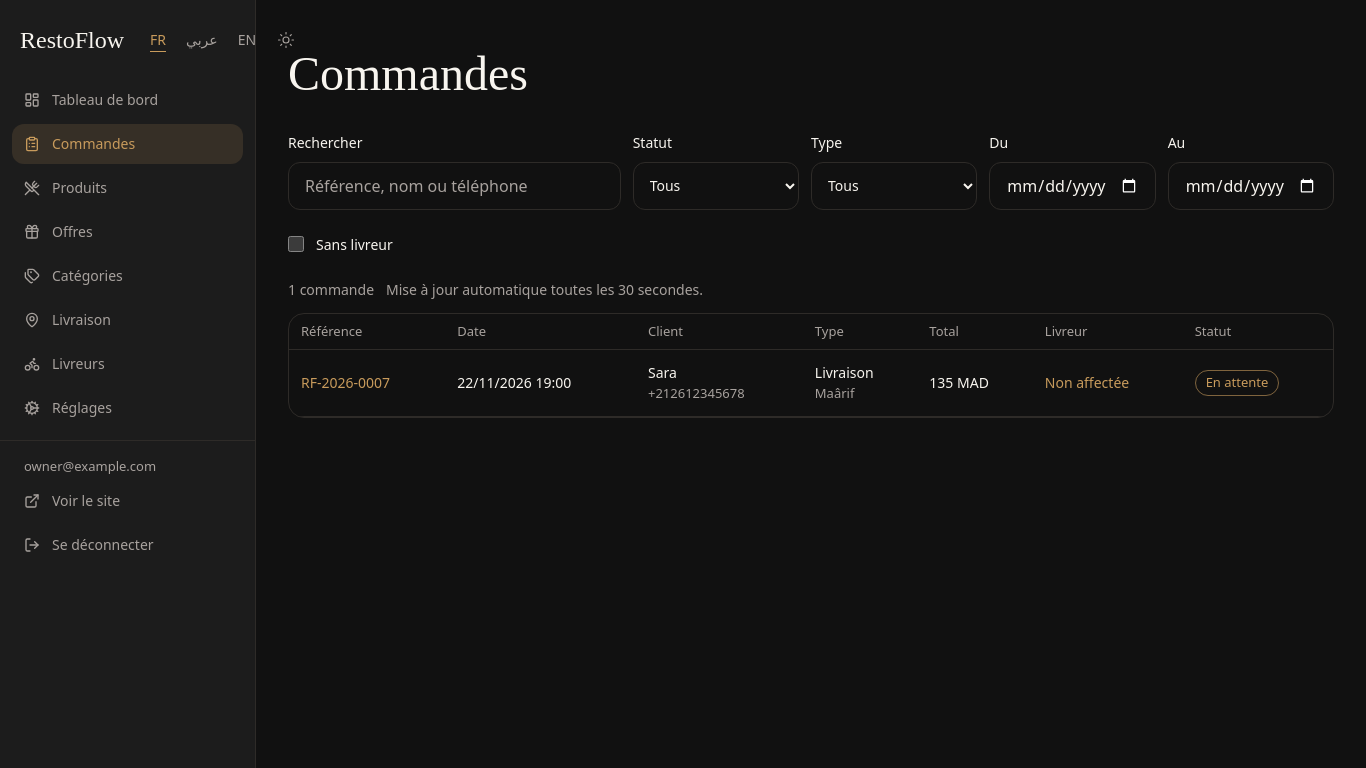
Test: orders › lists orders and confirms one manually
Click the link "RF-2026-0007" at (346, 383), box left=301, top=373, right=390, bottom=392
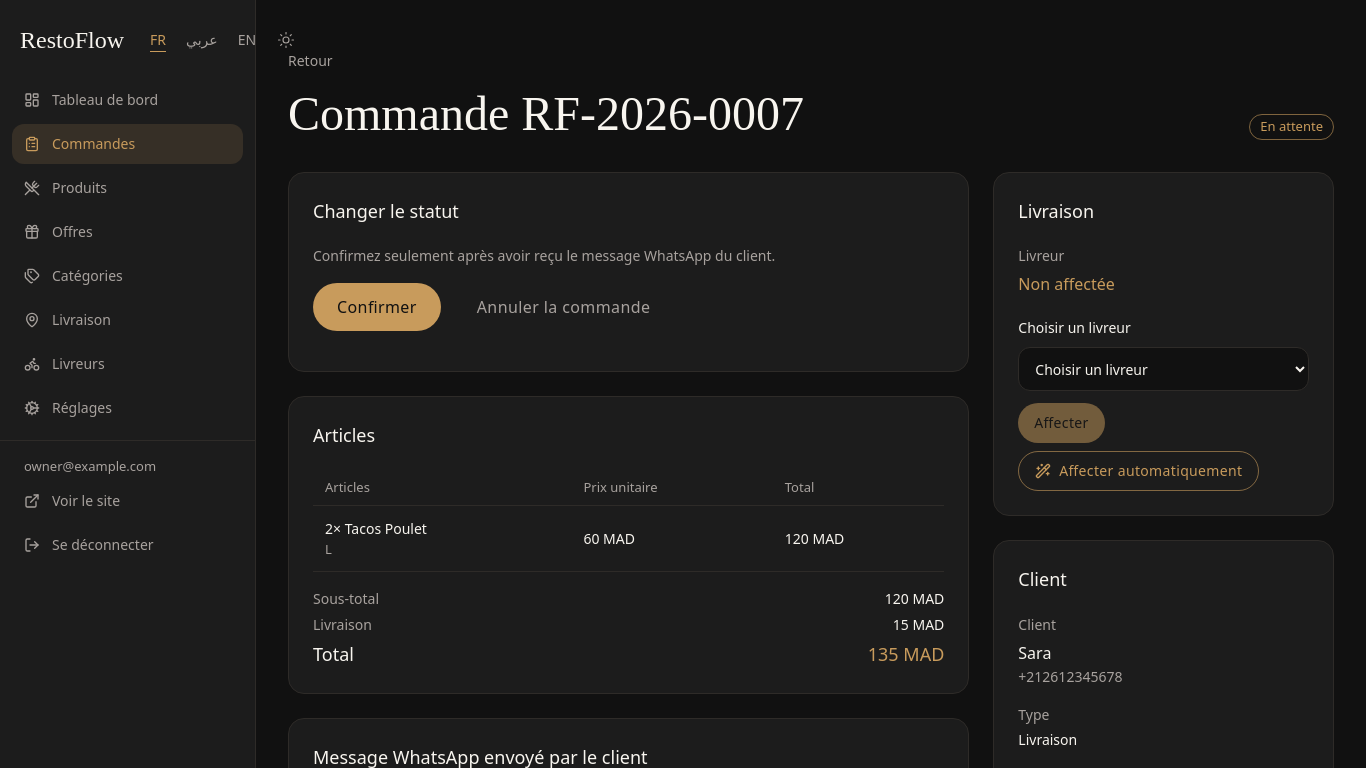
Expected: the text "Confirmez seulement après avoir reçu le message WhatsApp du client." is shown, left=313, top=246, right=775, bottom=265
Click the button "Confirmer" at (377, 307), box left=313, top=283, right=441, bottom=331
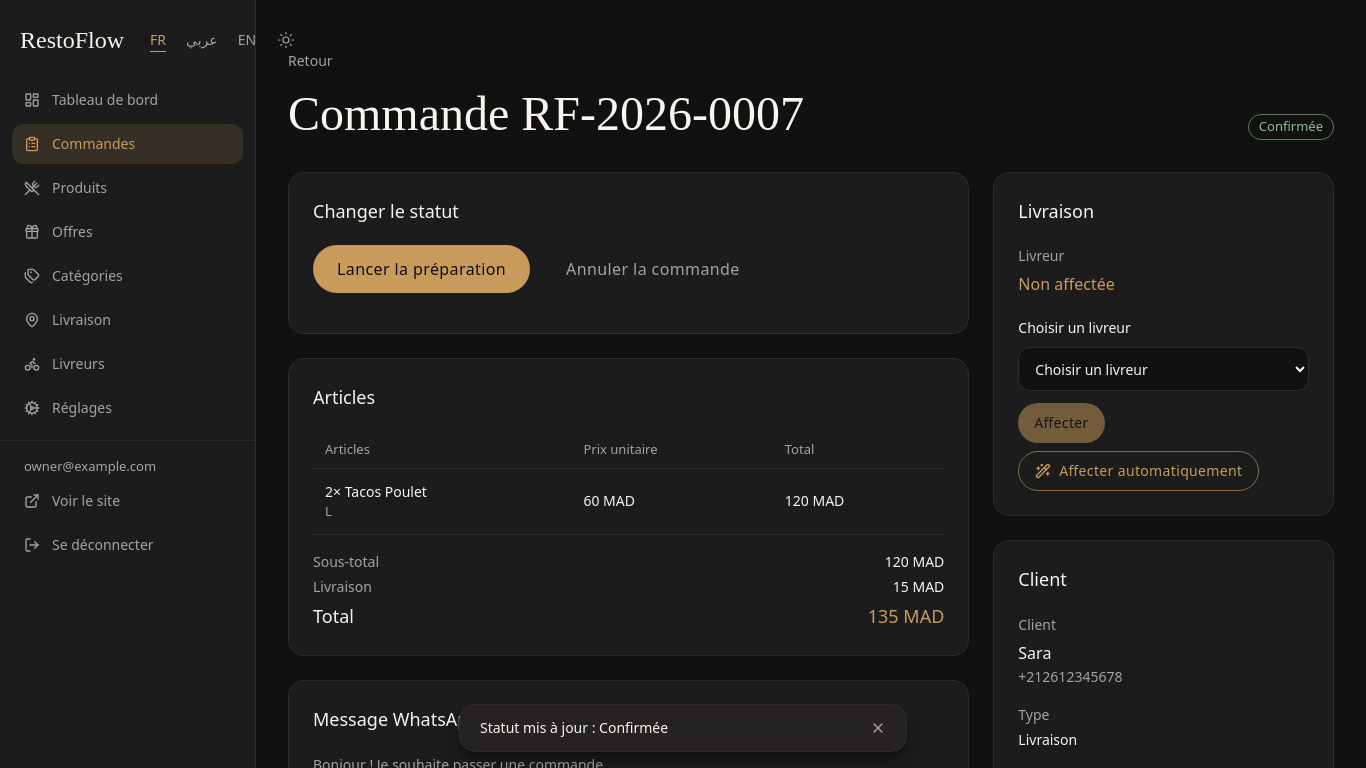
Expected: the text "Statut mis à jour : Confirmée" is shown, left=480, top=718, right=668, bottom=737
Expected: the button "Lancer la préparation" is shown, left=313, top=245, right=530, bottom=293
